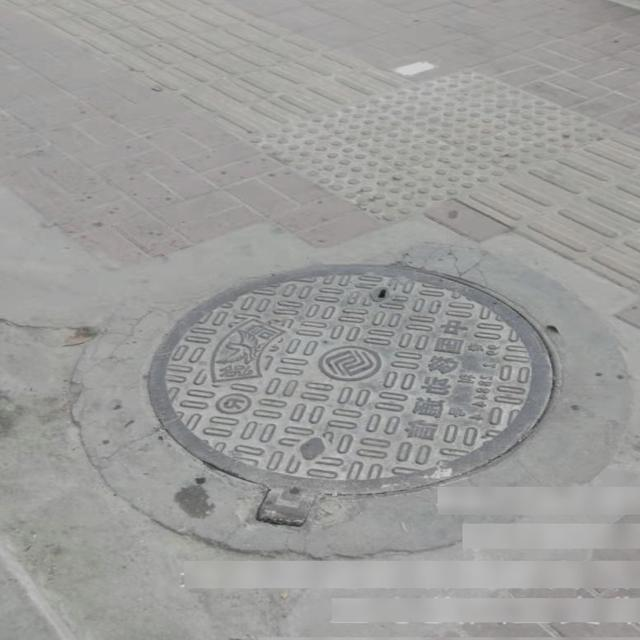good: (138, 261, 564, 530)
